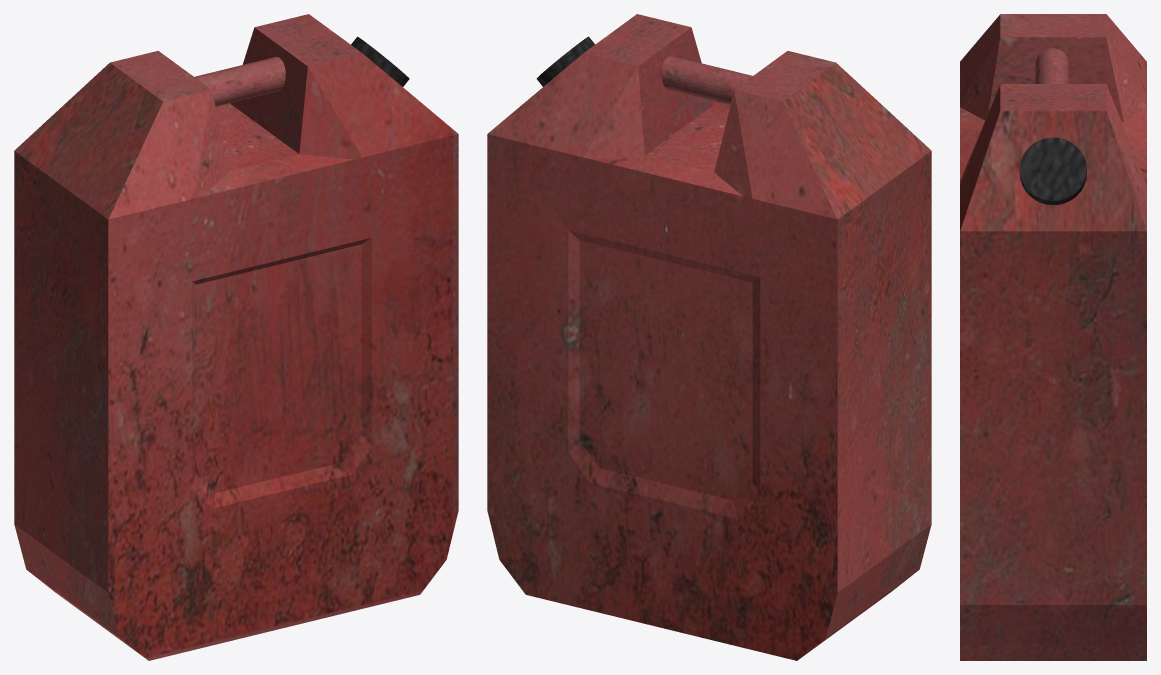
File: gas can.fbx
The picture shows the model from 3 angles, left to right: view 1: azimuth 30°, elevation 25°; view 2: azimuth 150°, elevation 25°; view 3: azimuth 270°, elevation 25°; orthographic projection.
Parts seen in each view (by area): view 1: Cube; view 2: Cube; view 3: Cube.
Part boxes in pixels (left/top/right/bottom): Cube: left=14, top=14, right=458, bottom=660; Cube: left=487, top=14, right=931, bottom=660; Cube: left=960, top=14, right=1146, bottom=660.
Size of the model in its own units: 275 by 402 by 128.
